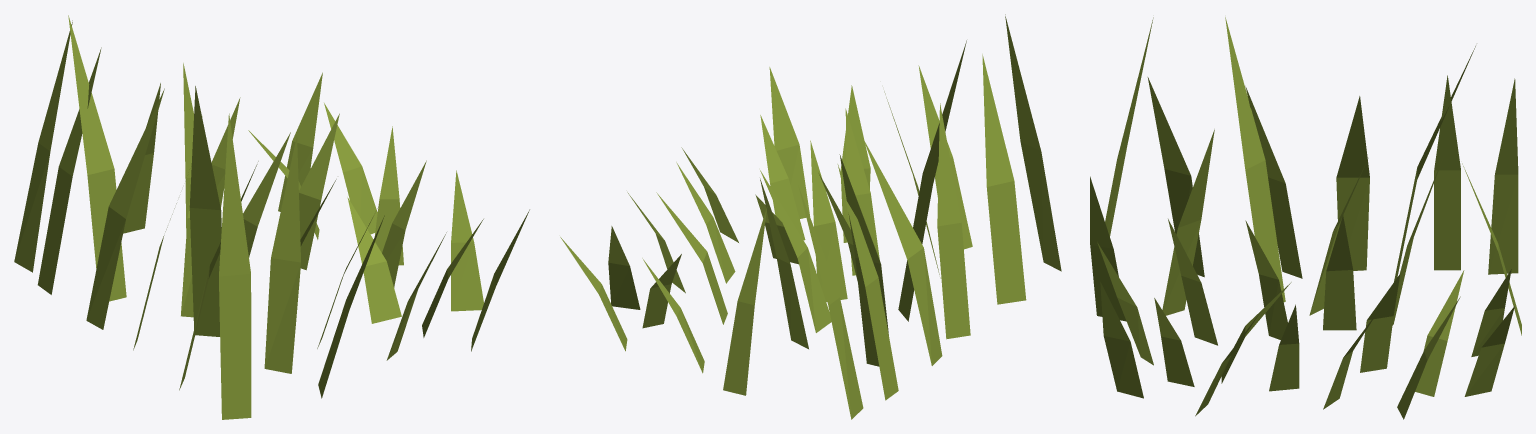
The picture shows the model from 3 angles, left to right: view 1: azimuth 30°, elevation 25°; view 2: azimuth 150°, elevation 25°; view 3: azimuth 270°, elevation 25°; orthographic projection. The views are drawn at different scales.
Size of the model in its own units: 106 by 89 by 128.
1 material, 1 textured.
